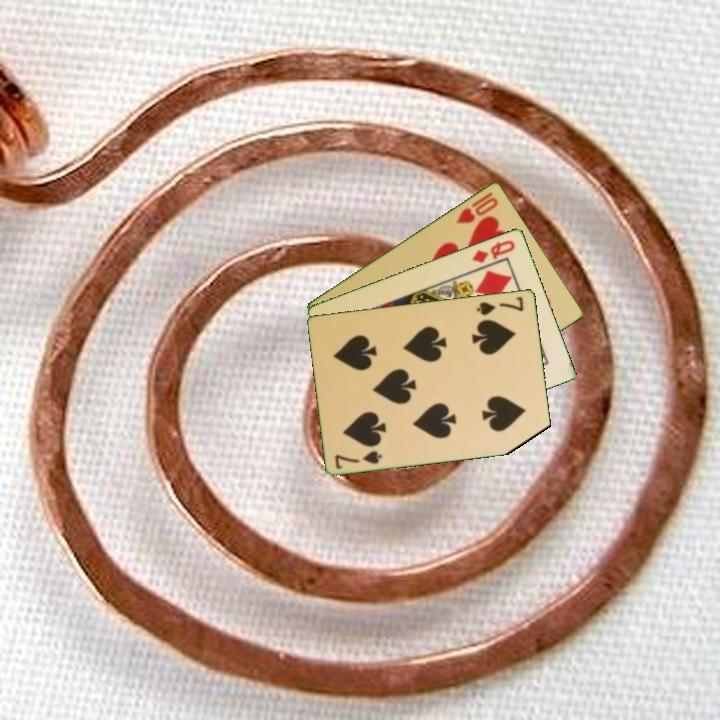10h: (452, 188, 501, 227)
7s: (473, 293, 527, 318), (331, 447, 385, 471)
Qd: (469, 236, 518, 266)
